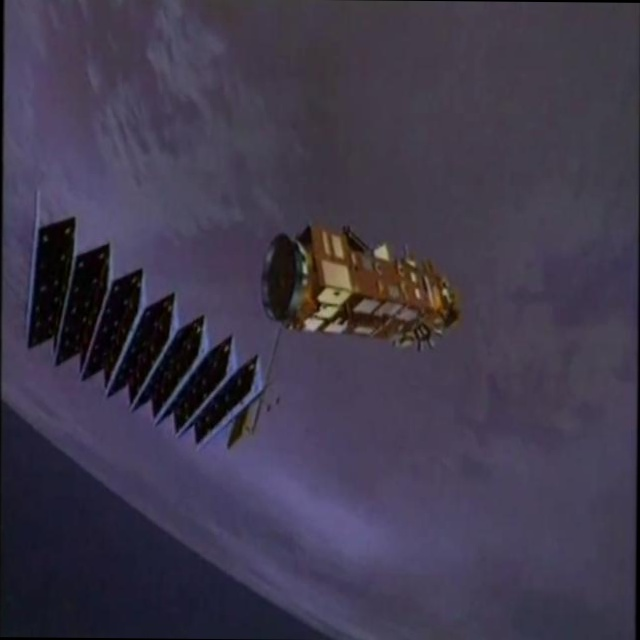large_debris: (13, 197, 273, 438)
satellite: (257, 212, 465, 378)
